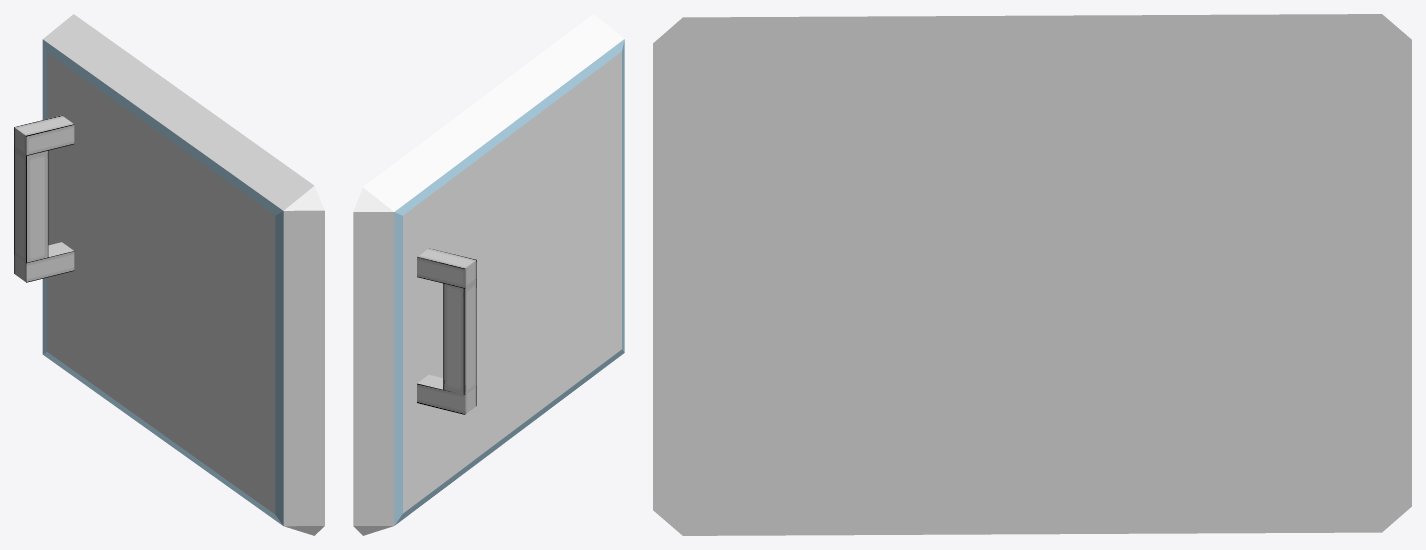
File: Refrigerator_Door_Freezer.fbx
3 views of the same model, side by side, from view 1: azimuth 30°, elevation 25°; view 2: azimuth 150°, elevation 25°; view 3: azimuth 270°, elevation 25° (orthographic). The views are drawn at different scales.
Parts seen in each view (by area): view 1: Handle5; view 2: Handle5; view 3: Handle5.
Boxes of the visible parts, box(x1,y1,x2,y2) form: Handle5: box(14, 14, 324, 535); Handle5: box(353, 14, 624, 535); Handle5: box(653, 14, 1411, 535).
Size of the model in its own units: 18.28 by 71.26 by 94.51.
